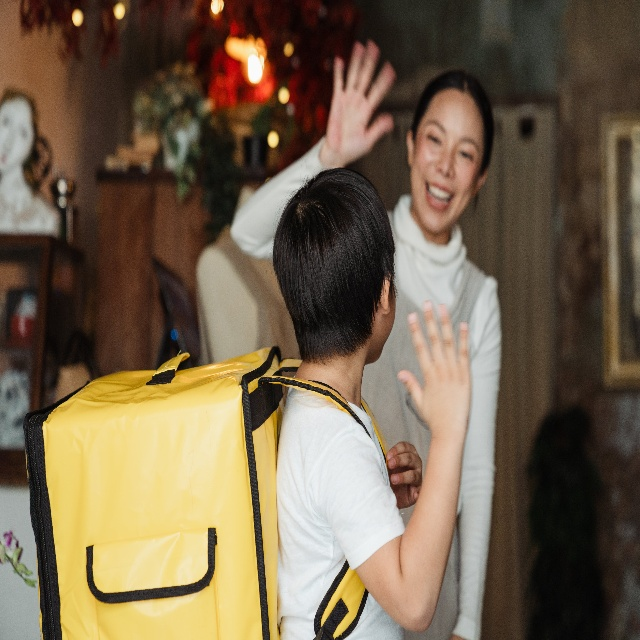Sin_guantes: (398, 298, 473, 439), (325, 36, 397, 161), (388, 442, 423, 499)
